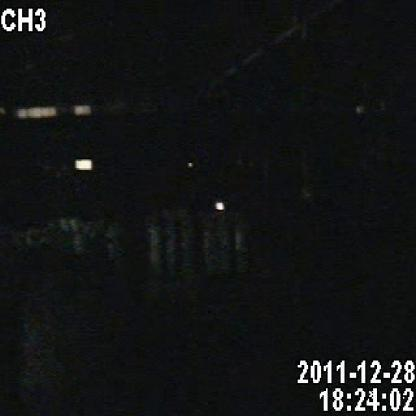fire: (208, 195, 237, 217)
